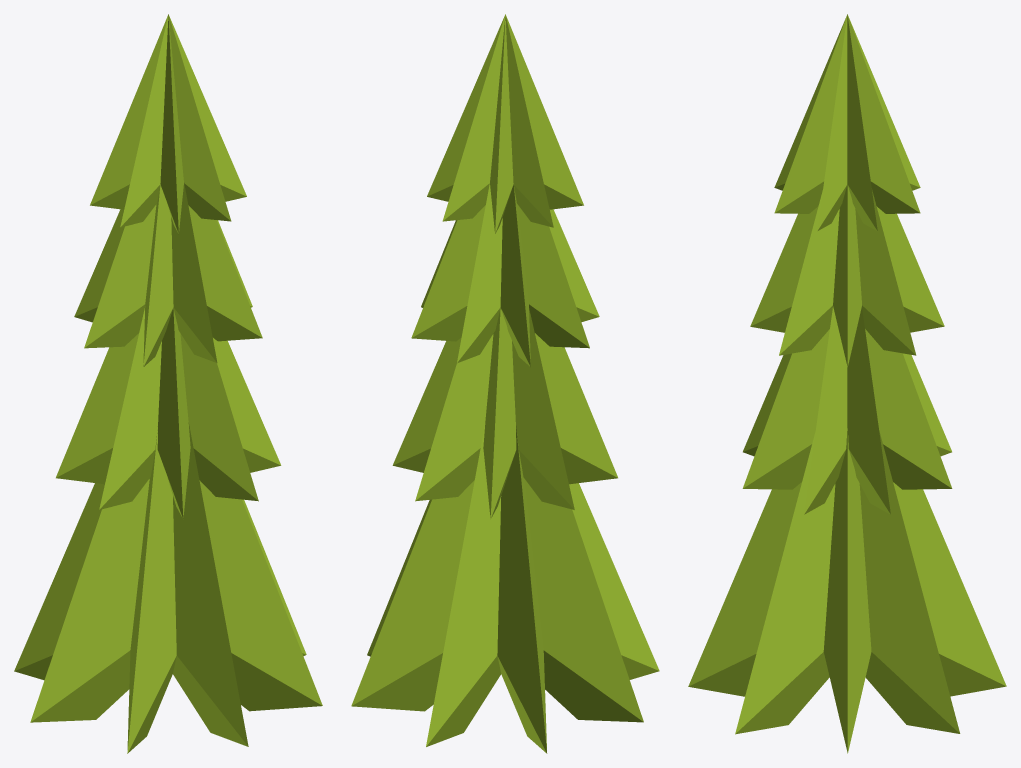
File: tree_3.glb
3 views of the same model, side by side, from view 1: azimuth 30°, elevation 25°; view 2: azimuth 150°, elevation 25°; view 3: azimuth 270°, elevation 25° (orthographic).
Visible parts, largest first — view 1: Cone.003; view 2: Cone.003; view 3: Cone.003.
Boxes of the visible parts, x1,y1,x2,y2 form: Cone.003: (14, 14, 322, 753); Cone.003: (351, 14, 659, 753); Cone.003: (688, 14, 1006, 753).
Size of the model in its own units: 4.02 by 9.56 by 4.02.
